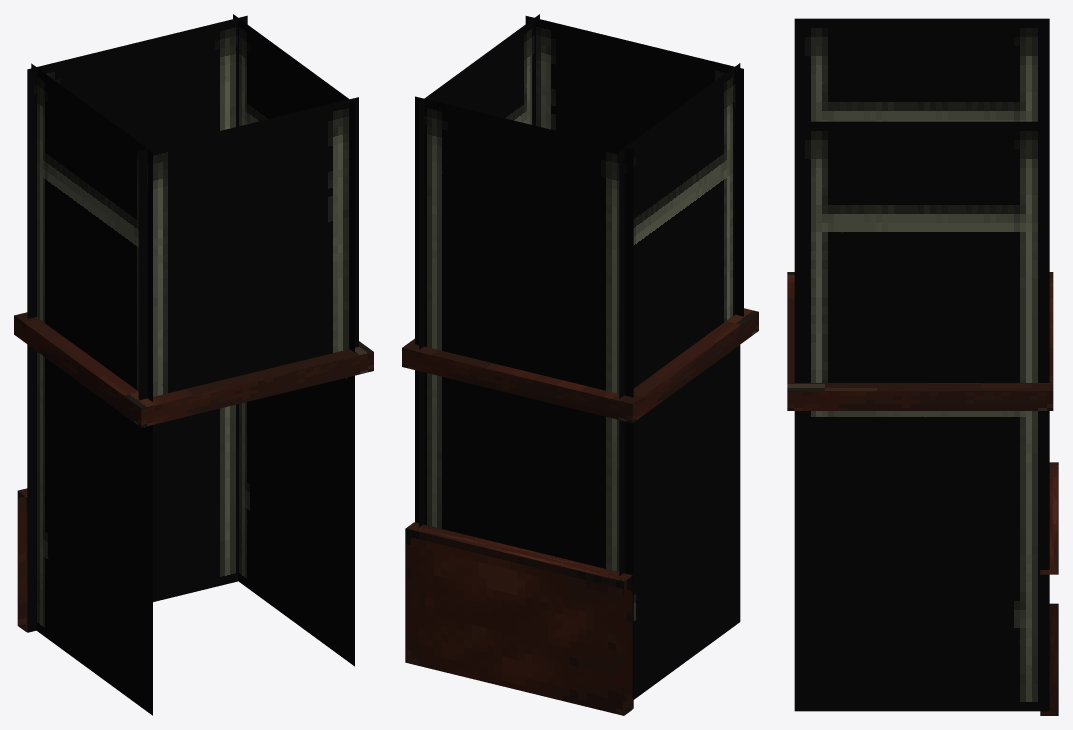
File: prop_chairup-0.glb
3 renders of one model, left to right at view 1: azimuth 30°, elevation 25°; view 2: azimuth 150°, elevation 25°; view 3: azimuth 270°, elevation 25°, orthographic. The views are drawn at different scales.
Visible parts, largest first — view 1: prop_chairup-0; view 2: prop_chairup-0; view 3: prop_chairup-0.
Part boxes in pixels (x1,y1,x2,y2): prop_chairup-0: [14, 14, 373, 715]; prop_chairup-0: [402, 14, 758, 715]; prop_chairup-0: [787, 18, 1058, 715].
Bounding box in the file's own units: 0.38 × 0.88 × 0.3675.
2 materials, 2 textured.
